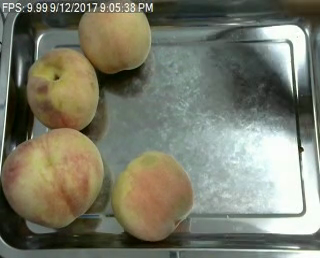Peach: (2, 127, 105, 229), (111, 151, 193, 242), (25, 46, 98, 132), (77, 0, 152, 75)
